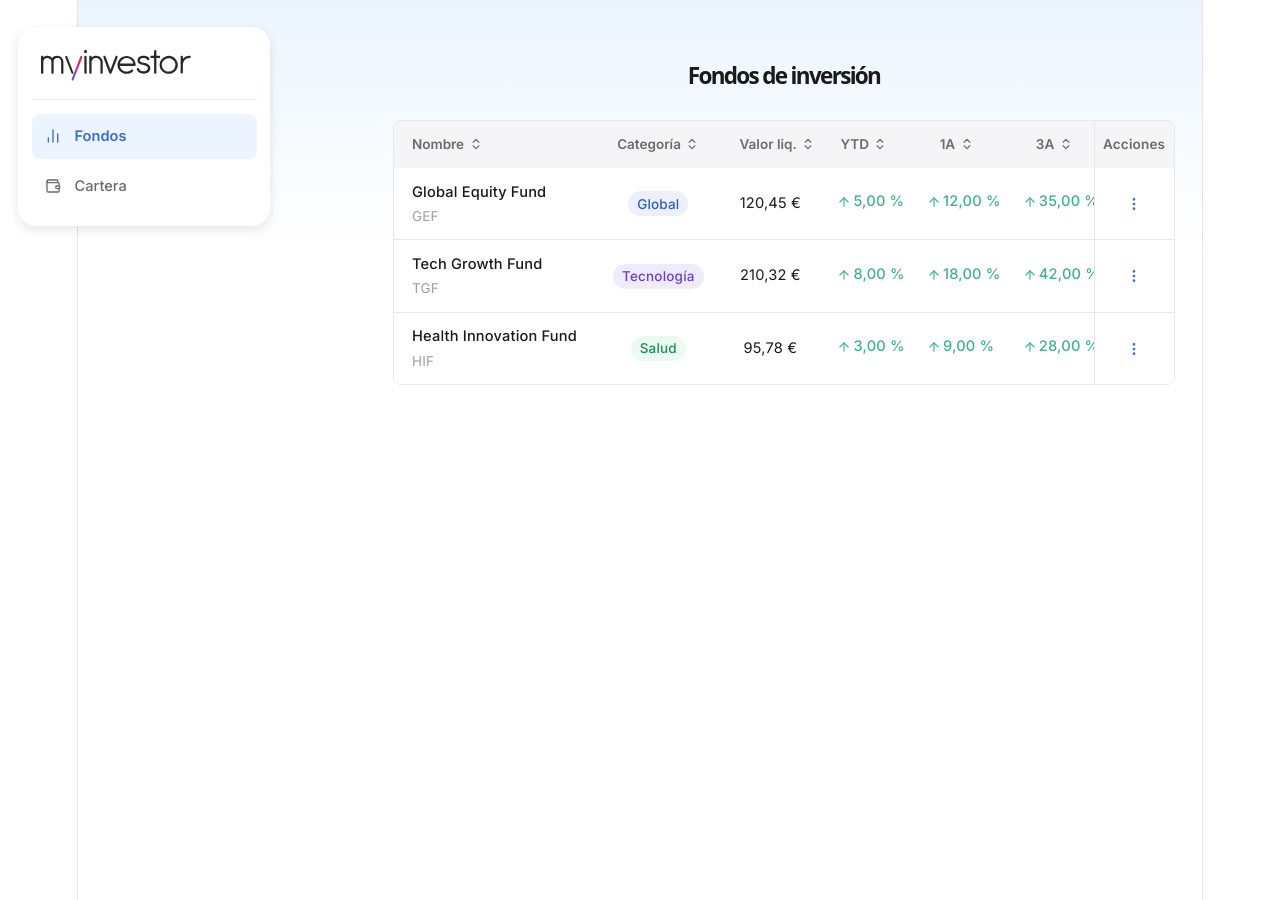
Test: App navigation › switches between Fondos and Cartera views
The width and height of the screenshot is (1280, 900).
Expected: the heading "Fondos de inversión" is shown, 688,60 -> 880,91
Click the button "Cartera" at x=144, y=186, box 32,163 -> 256,208
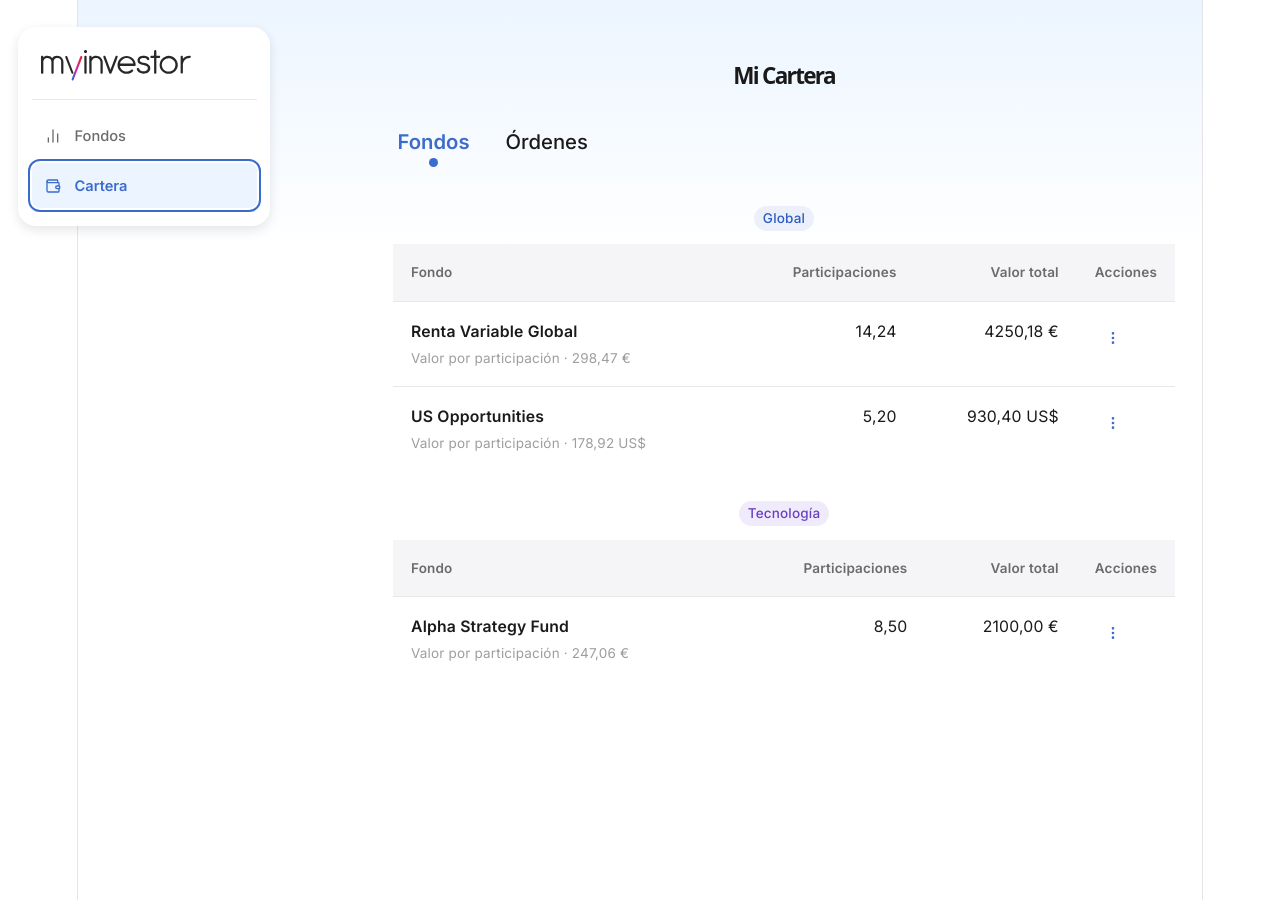
Expected: the button "Cartera" is marked as current, 32,163 -> 256,208
Click the button "Fondos" at x=144, y=136, box 32,114 -> 256,158
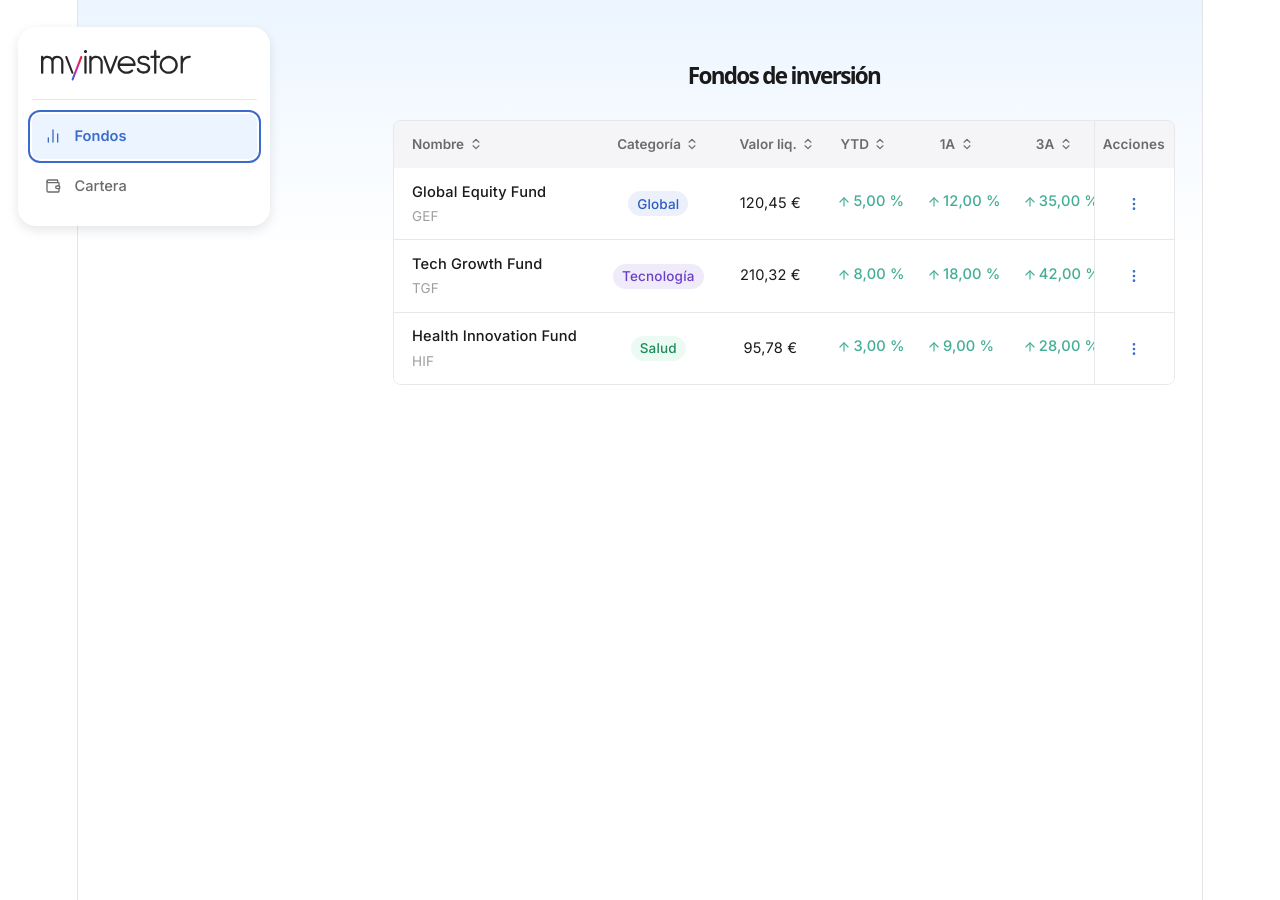
Expected: the heading "Fondos de inversión" is shown, 688,60 -> 880,91
